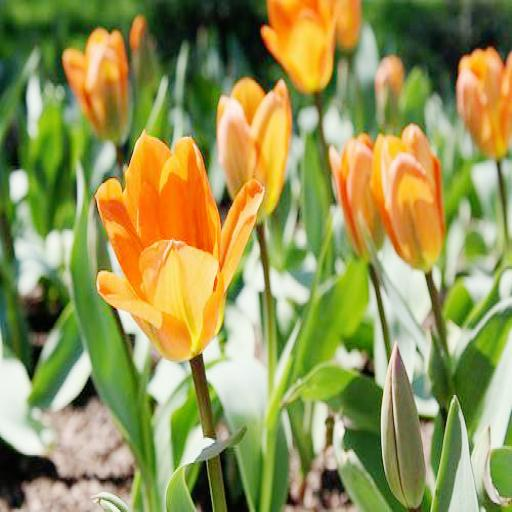tulip: (93, 130, 265, 368), (368, 120, 446, 274), (214, 74, 293, 214), (66, 28, 132, 144), (459, 42, 512, 162)
